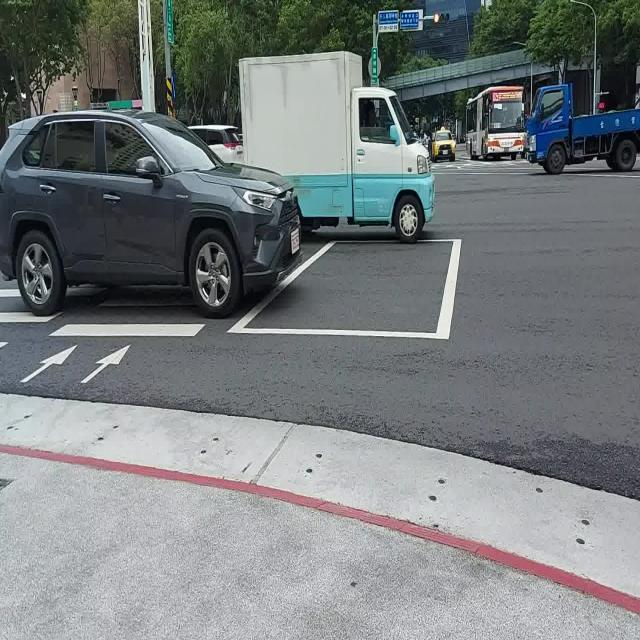bus: (466, 87, 525, 160)
car: (0, 111, 300, 318), (190, 124, 242, 162), (431, 129, 455, 162)
crosswalk: (49, 293, 206, 336), (0, 288, 63, 350)
trunk: (239, 51, 435, 240), (525, 84, 640, 173)
